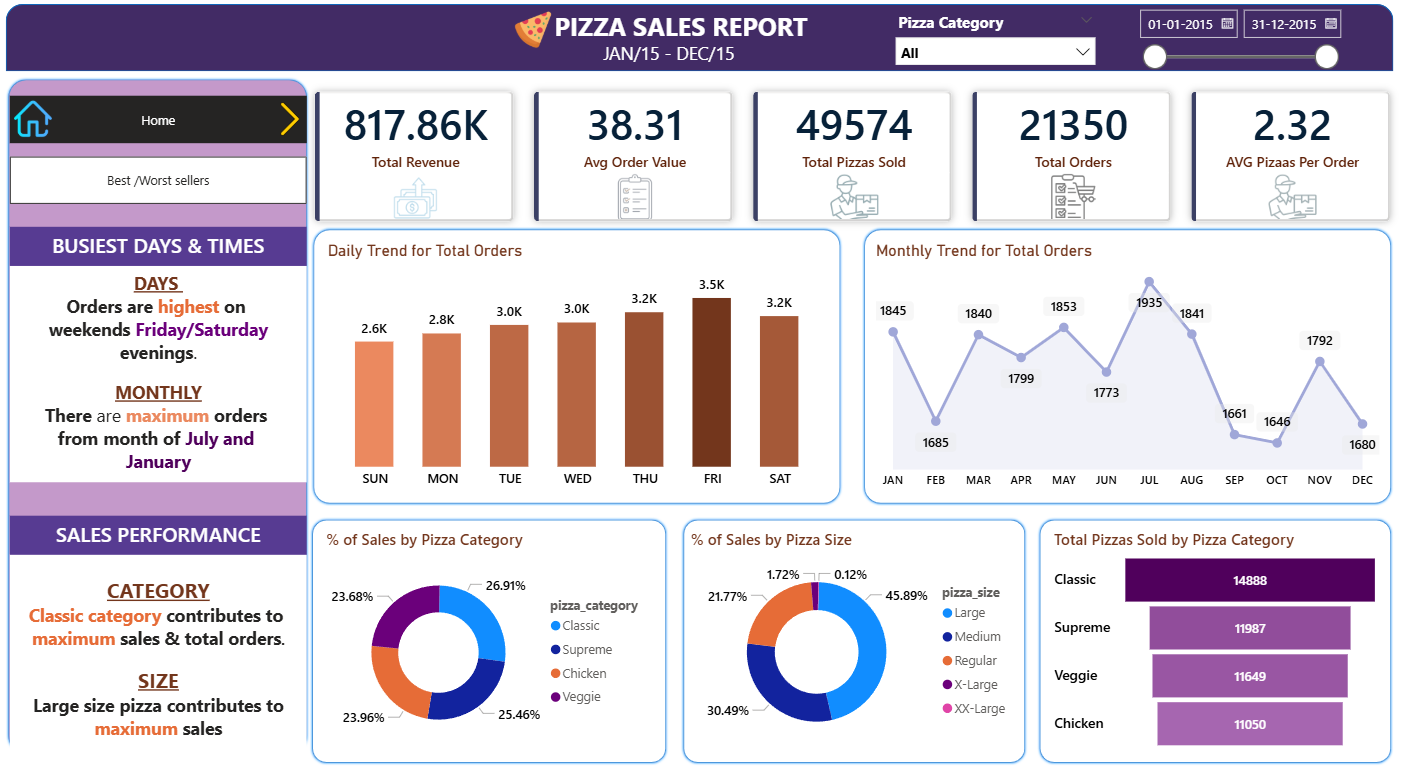

This screenshot's page, from the dashboard's own definition file:
{"tool":"powerbi","page":{"name":"Home","canvas":[1500,820],"ordinal":0},"visuals":[{"type":"cardVisual","fields":{"Data":["pizza_sales_db pizza_sales.Total Revenue","pizza_sales_db pizza_sales.Avg Order Value","pizza_sales_db pizza_sales.Total Pizzas Sold","pizza_sales_db pizza_sales.Total Orders","pizza_sales_db pizza_sales.AVG Pizaas Per Order"]},"box":[316.4,75.3,1183.6,179.5],"z":0},{"type":"shape","box":[11,4.1,1468.5,71.2],"z":1000},{"type":"textbox","box":[579.5,4.1,291.8,46.6],"z":2000},{"type":"textbox","box":[634.2,38.4,157.5,41.1],"z":3000},{"type":"image","box":[367.1,11,404.1,39.7],"z":4000},{"type":"shape","box":[334.3,240,562.9,295.7],"z":5000},{"type":"columnChart","title":"Daily Trend for Total Orders","fields":{"Category":["pizza_sales_db pizza_sales.Order Day"],"Y":["pizza_sales_db pizza_sales.Total Orders"]},"box":[348.1,255.7,539.2,269.6],"z":6000},{"type":"shape","box":[917.1,240,562.9,295.7],"z":7000},{"type":"areaChart","title":"Monthly Trend for Total Orders","fields":{"Category":["pizza_sales_db pizza_sales.Order Month"],"Y":["pizza_sales_db pizza_sales.Total Orders"]},"box":[927.1,255.7,542.9,270],"z":8000},{"type":"shape","box":[332.9,547.1,380,262.9],"z":9000},{"type":"shape","box":[725.7,547.1,367.1,262.9],"z":10000},{"type":"shape","box":[1102.9,547.1,377.1,262.9],"z":11000},{"type":"donutChart","title":"% of Sales by Pizza Category","fields":{"Category":["pizza_sales_db pizza_sales.pizza_category"],"Y":["pizza_sales_db pizza_sales.Total Revenue"]},"box":[345.7,560,355.7,240],"z":12000},{"type":"donutChart","title":"% of Sales by Pizza Size","fields":{"Category":["pizza_sales_db pizza_sales.pizza_size"],"Y":["pizza_sales_db pizza_sales.Total Revenue"]},"box":[731.4,560,355.7,238.6],"z":13000},{"type":"shape","box":[11.4,81.4,321.4,718.6],"z":14000},{"type":"funnel","title":"Total Pizzas Sold by Pizza Category","fields":{"Category":["pizza_sales_db pizza_sales.pizza_category"],"Y":["pizza_sales_db pizza_sales.Total Pizzas Sold"]},"box":[1115.7,560,354.3,238.6],"z":15000},{"type":"textbox","box":[15.7,240,314.3,41.4],"z":16000},{"type":"textbox","box":[15.7,545.7,314.3,41.4],"z":17000},{"type":"textbox","box":[15.7,281.4,314.3,228.6],"z":18000},{"type":"textbox","box":[15.7,587.1,314.3,222.9],"z":19000},{"type":"slicer","fields":{"Values":["pizza_sales_db pizza_sales.pizza_category"]},"box":[942.9,7.1,231.4,68.6],"z":20000},{"type":"slicer","fields":{"Values":["pizza_sales_db pizza_sales.order_date"]},"box":[1198.6,0,231.4,75.7],"z":21000},{"type":"pageNavigator","box":[15.7,101.4,314.3,50],"z":22000},{"type":"pageNavigator","box":[15.7,165.7,314.3,50],"z":23000},{"type":"image","box":[15.7,105.7,48.6,40],"z":24000},{"type":"image","box":[294.3,100,35.7,51.4],"z":25000}]}

Visuals, with their boxes in screenshot pixels (x1, y1, x2, y2), scaled from the page's 1500x820 canvas onto the 1406x770 screenshot:
cardVisual - pizza_sales_db pizza_sales.Total Revenue x pizza_sales_db pizza_sales.Avg Order Value: {"left": 297, "top": 71, "right": 1405, "bottom": 239}
shape: {"left": 10, "top": 4, "right": 1387, "bottom": 71}
textbox: {"left": 543, "top": 4, "right": 817, "bottom": 48}
textbox: {"left": 594, "top": 36, "right": 742, "bottom": 75}
image: {"left": 344, "top": 10, "right": 723, "bottom": 48}
shape: {"left": 313, "top": 225, "right": 841, "bottom": 503}
"Daily Trend for Total Orders" columnChart: {"left": 326, "top": 240, "right": 832, "bottom": 493}
shape: {"left": 860, "top": 225, "right": 1387, "bottom": 503}
"Monthly Trend for Total Orders" areaChart: {"left": 869, "top": 240, "right": 1378, "bottom": 494}
shape: {"left": 312, "top": 514, "right": 668, "bottom": 761}
shape: {"left": 680, "top": 514, "right": 1024, "bottom": 761}
shape: {"left": 1034, "top": 514, "right": 1387, "bottom": 761}
"% of Sales by Pizza Category" donutChart: {"left": 324, "top": 526, "right": 657, "bottom": 751}
"% of Sales by Pizza Size" donutChart: {"left": 686, "top": 526, "right": 1019, "bottom": 750}
shape: {"left": 11, "top": 76, "right": 312, "bottom": 751}
"Total Pizzas Sold by Pizza Category" funnel: {"left": 1046, "top": 526, "right": 1378, "bottom": 750}
textbox: {"left": 15, "top": 225, "right": 309, "bottom": 264}
textbox: {"left": 15, "top": 512, "right": 309, "bottom": 551}
textbox: {"left": 15, "top": 264, "right": 309, "bottom": 479}
textbox: {"left": 15, "top": 551, "right": 309, "bottom": 761}
slicer - pizza_sales_db pizza_sales.pizza_category: {"left": 884, "top": 7, "right": 1101, "bottom": 71}
slicer - pizza_sales_db pizza_sales.order_date: {"left": 1123, "top": 0, "right": 1340, "bottom": 71}
pageNavigator: {"left": 15, "top": 95, "right": 309, "bottom": 142}
pageNavigator: {"left": 15, "top": 156, "right": 309, "bottom": 203}
image: {"left": 15, "top": 99, "right": 60, "bottom": 137}
image: {"left": 276, "top": 94, "right": 309, "bottom": 142}
